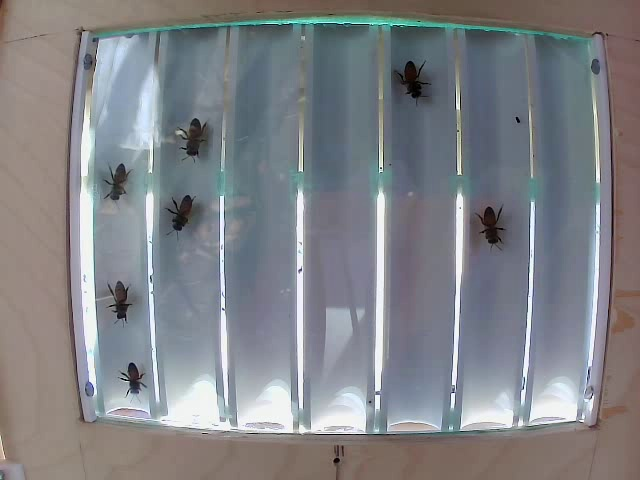bee: (164, 184, 203, 234), (106, 366, 152, 407), (96, 274, 136, 319), (391, 52, 425, 102), (98, 166, 133, 212), (178, 106, 210, 153), (467, 209, 502, 243)
